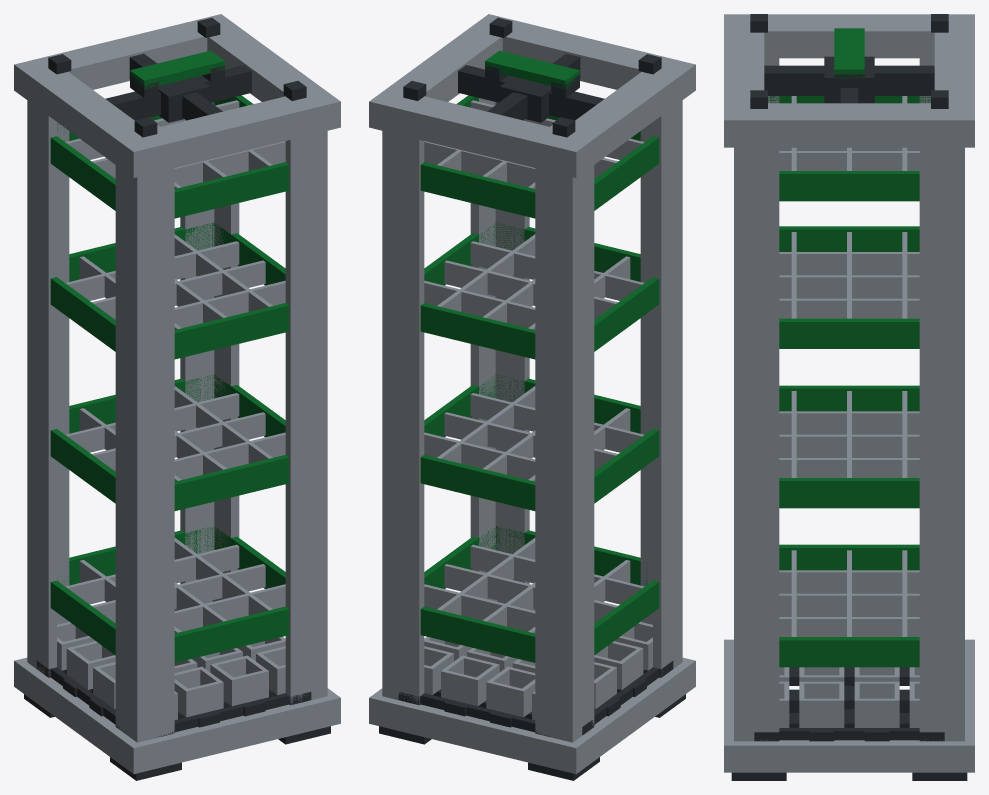
File: tvs_frame.obj
The picture shows the model from 3 angles, left to right: view 1: azimuth 30°, elevation 25°; view 2: azimuth 150°, elevation 25°; view 3: azimuth 270°, elevation 25°; orthographic projection. The views are drawn at different scales.
Parts seen in each view (by area): view 1: frame_corner_posts, frame_spacer_grids, frame_top_head, frame_rod_sockets, frame_bottom_nozzle; view 2: frame_corner_posts, frame_spacer_grids, frame_top_head, frame_rod_sockets, frame_bottom_nozzle; view 3: frame_spacer_grids, frame_corner_posts, frame_top_head, frame_bottom_nozzle, frame_rod_sockets.
Part boxes in pixels (box(x1,y1,x2,y2)): frame_corner_posts: box(27, 100, 327, 742); frame_spacer_grids: box(50, 95, 289, 662); frame_top_head: box(14, 14, 340, 177); frame_rod_sockets: box(36, 598, 311, 737); frame_bottom_nozzle: box(14, 657, 340, 780); frame_corner_posts: box(382, 98, 682, 742); frame_spacer_grids: box(420, 95, 659, 662); frame_top_head: box(369, 14, 695, 177); frame_rod_sockets: box(398, 598, 673, 738); frame_bottom_nozzle: box(369, 657, 695, 780); frame_spacer_grids: box(768, 96, 930, 667); frame_corner_posts: box(734, 58, 964, 741); frame_top_head: box(724, 14, 974, 147); frame_bottom_nozzle: box(724, 639, 974, 780); frame_rod_sockets: box(754, 667, 944, 741).
Bounding box in the file's own units: 1 × 3 × 1.
